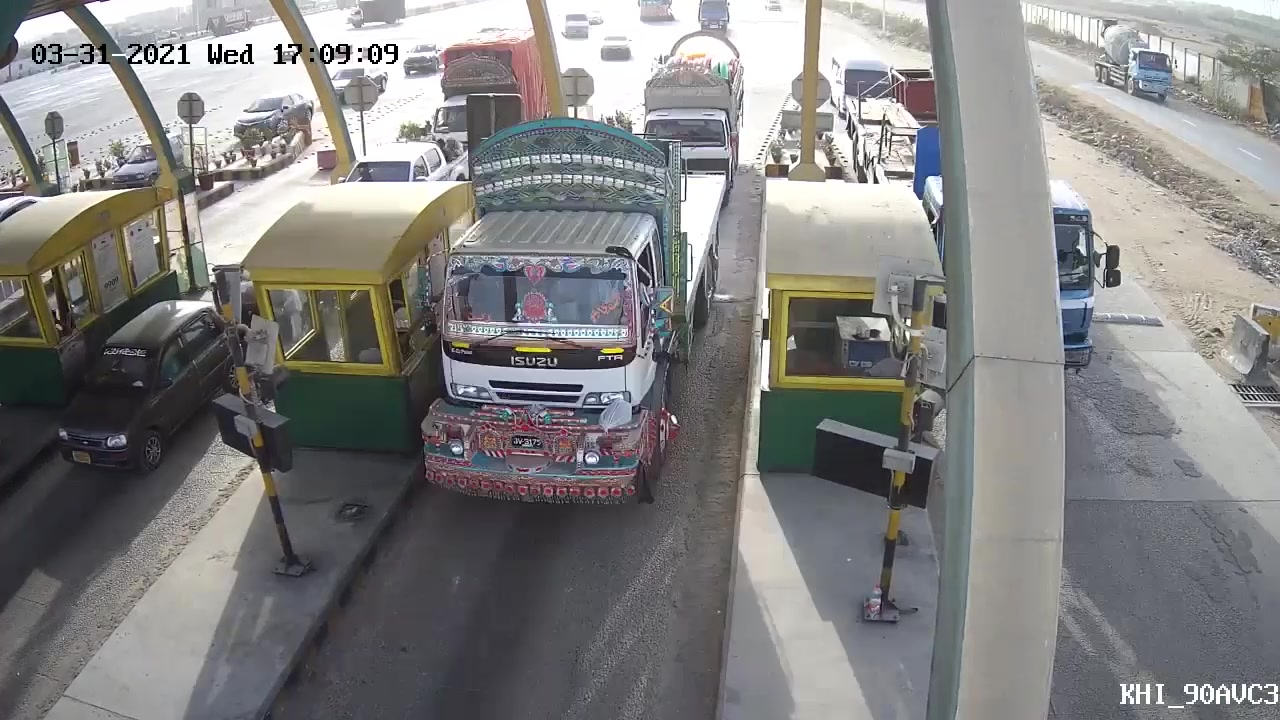F5: (414, 125, 711, 501)
